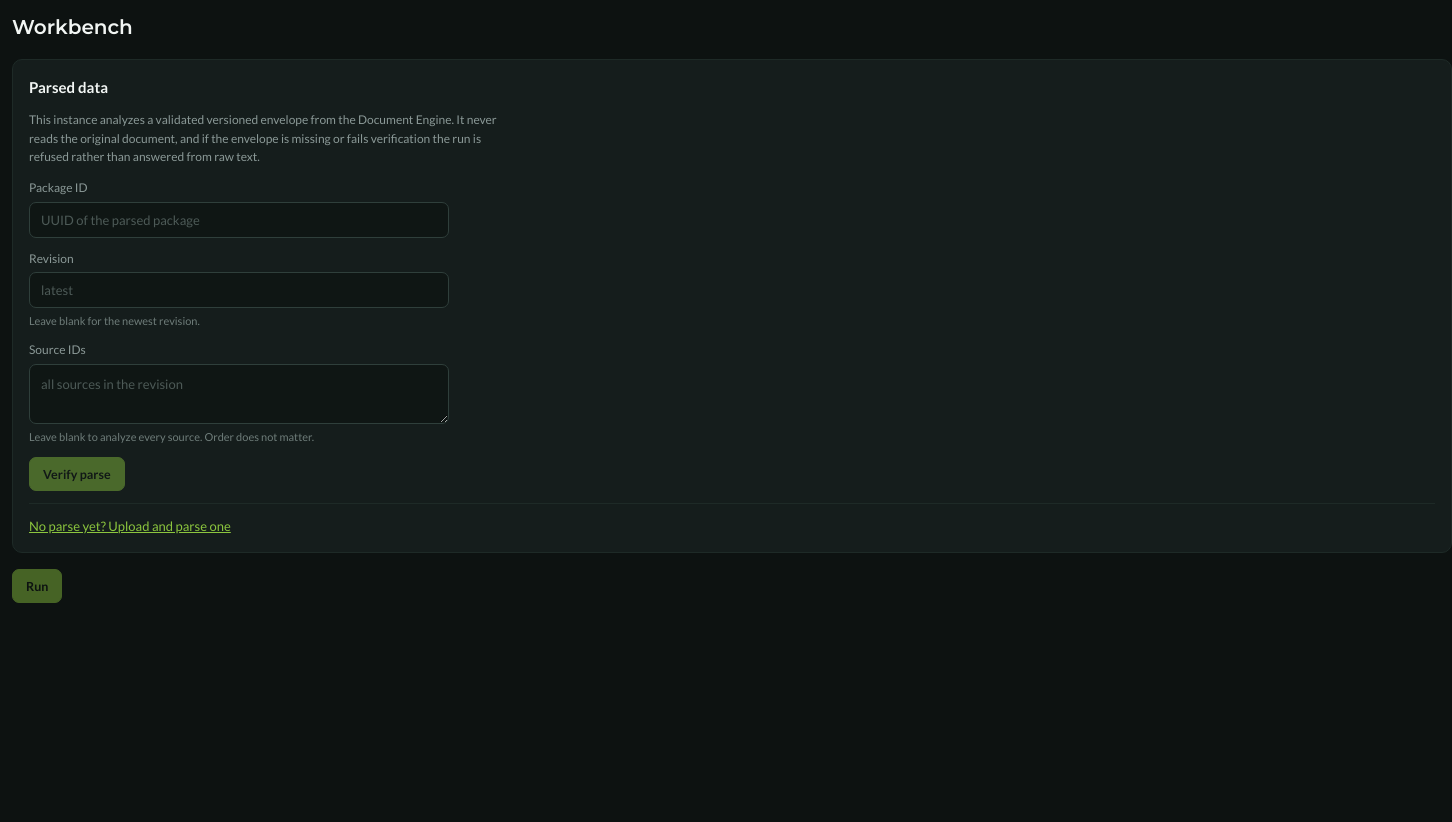
it: InstanceWorkbench › refuses a parse this release cannot analyze
In the field labelled "Package ID": (239, 220) [29, 202, 449, 238], type "44444444-4444-4444-8444-444444444444"
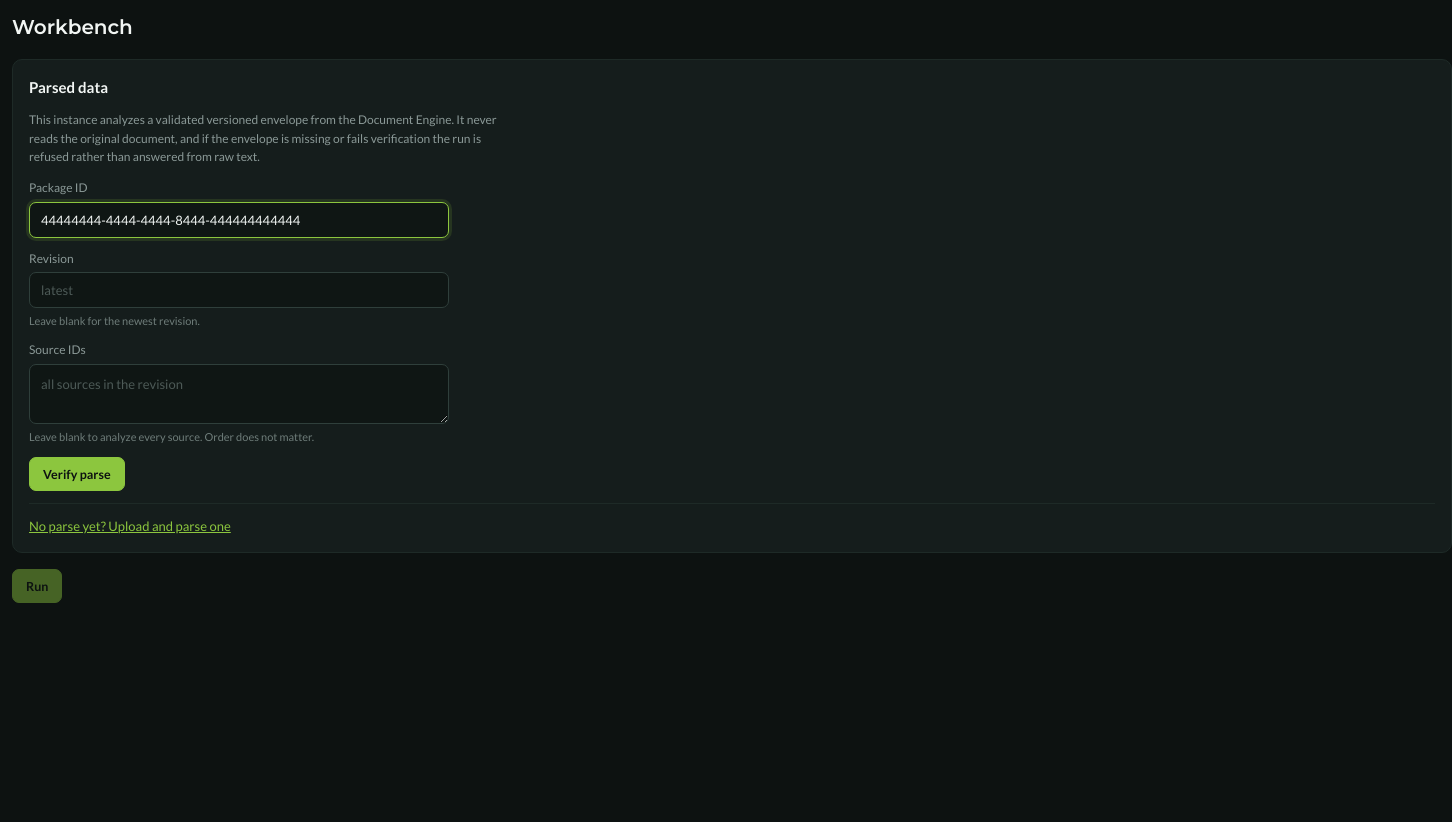
Click the button "Verify parse": (77, 474) [29, 457, 125, 491]
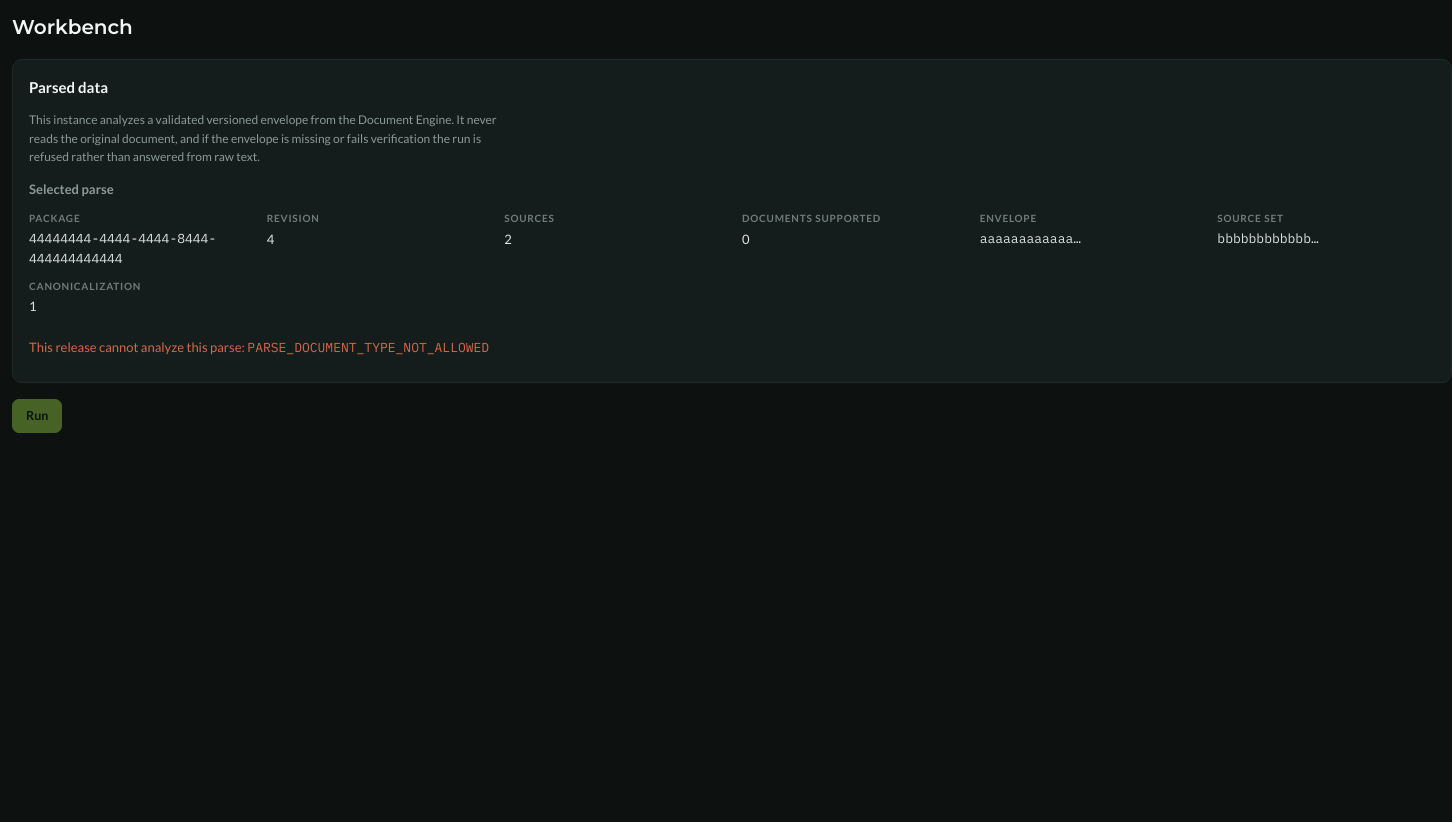
Expected: the button "Run" is disabled, [12, 399, 62, 433]
Expected: the text "PARSE_DOCUMENT_TYPE_NOT_ALLOWED" is shown, [247, 339, 489, 356]
